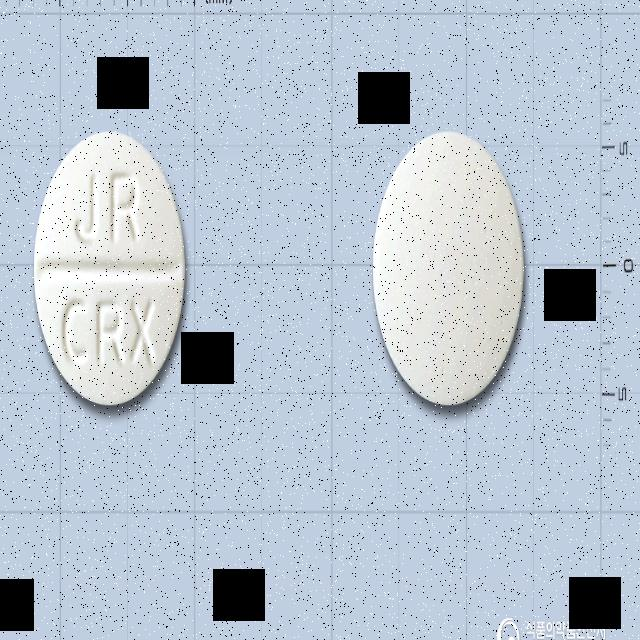Ciroxin: (29, 126, 190, 418)
